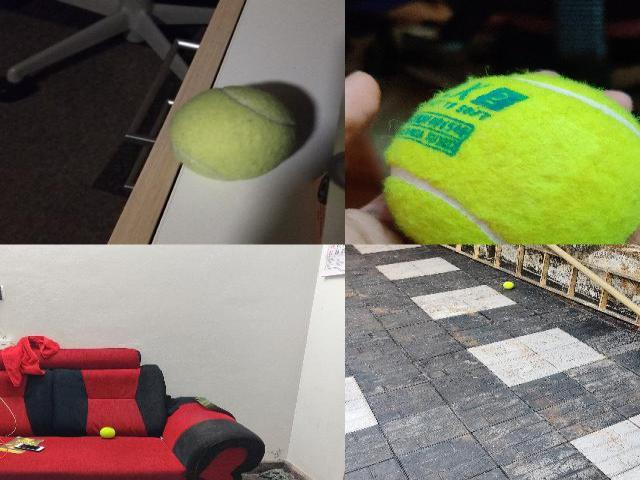tennis-ball: (384, 74, 639, 244), (168, 85, 298, 182), (99, 428, 115, 438), (502, 281, 514, 289)
